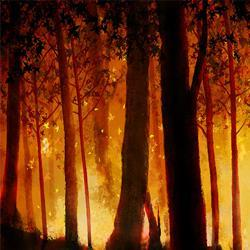fire: (216, 164, 229, 244), (80, 179, 96, 242), (239, 158, 250, 236)
